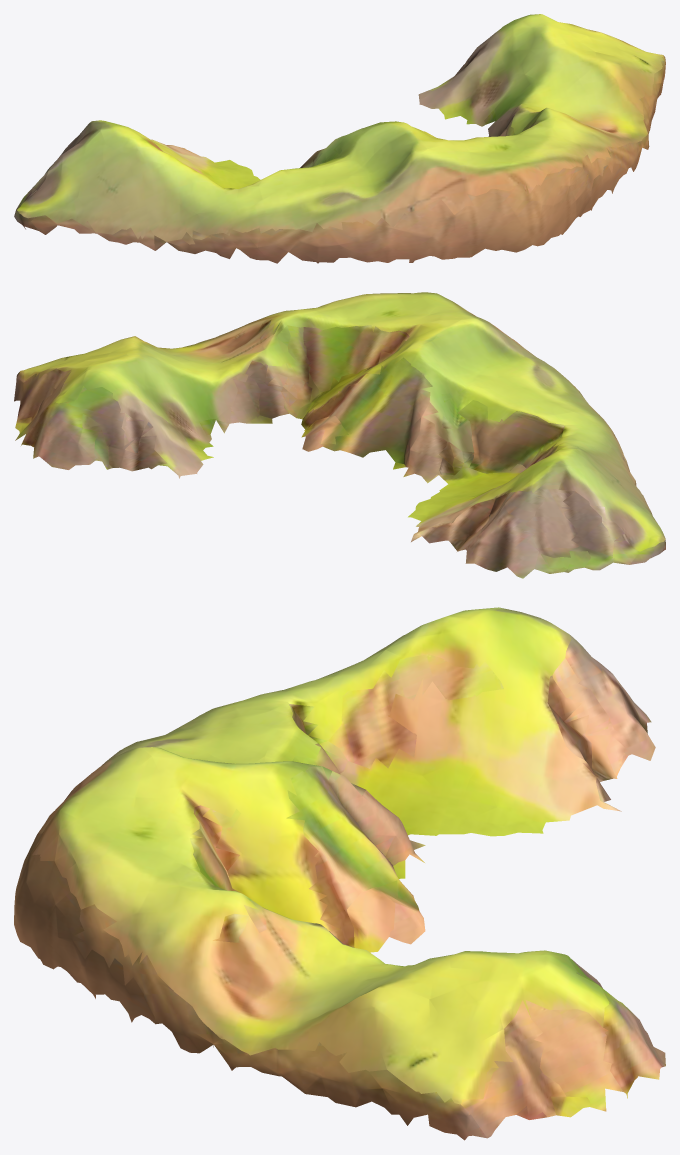
Rendered from MountainRound.glb.
3 renders of one model, top to bottom at view 1: azimuth 30°, elevation 25°; view 2: azimuth 150°, elevation 25°; view 3: azimuth 270°, elevation 25°, orthographic. The views are drawn at different scales.
Parts seen in each view (by area): view 1: MountainRound; view 2: MountainRound; view 3: MountainRound.
Boxes of the visible parts, box(x1,y1,x2,y2) form: MountainRound: box(14, 14, 665, 263); MountainRound: box(14, 292, 665, 578); MountainRound: box(14, 607, 665, 1140).
Bounding box in the file's own units: 0.9548 × 0.1213 × 0.5395.
Materials: 1 (1 with a texture image).
